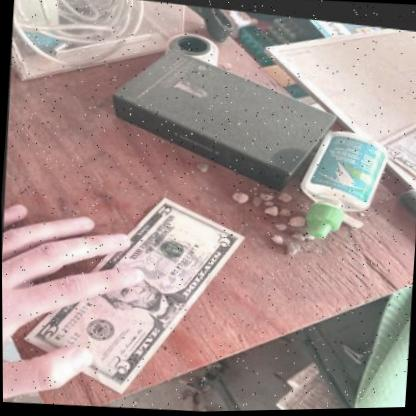five-front: (23, 196, 245, 393)
